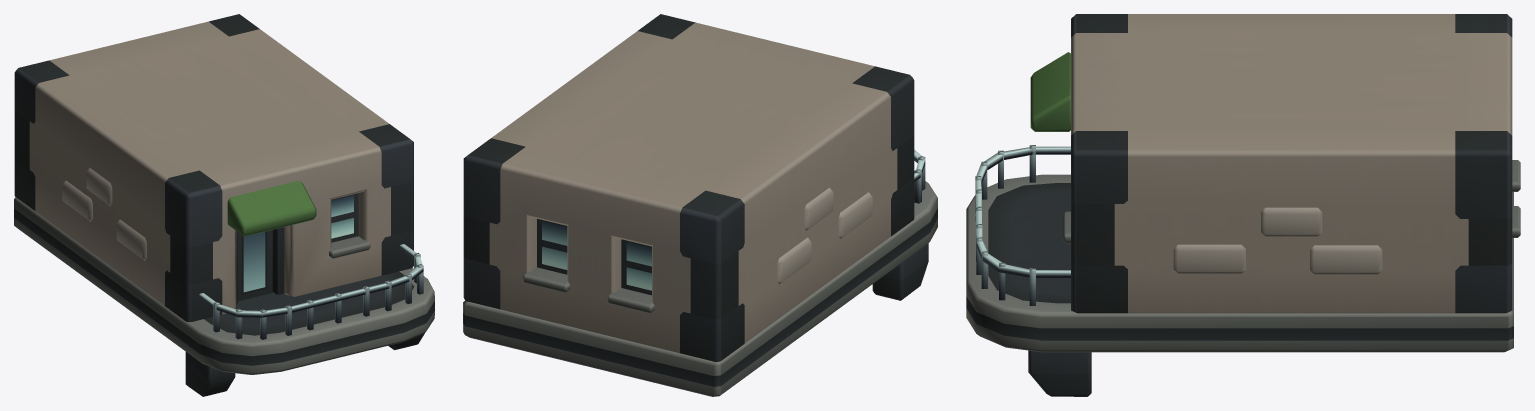
Rendered from appartment_type1_x3_balcony_cream.fbx.
The picture shows the model from 3 angles, left to right: view 1: azimuth 30°, elevation 25°; view 2: azimuth 150°, elevation 25°; view 3: azimuth 270°, elevation 25°; orthographic projection. The views are drawn at different scales.
Parts seen in each view (by area): view 1: appartment_type1_x3_balcony_cream, door_appartment_type1_x3_balcony_grey; view 2: appartment_type1_x3_balcony_cream; view 3: appartment_type1_x3_balcony_cream.
Part boxes in pixels (box(x1,y1,x2,y2)): appartment_type1_x3_balcony_cream: box(14, 14, 434, 396); door_appartment_type1_x3_balcony_grey: box(237, 230, 272, 301); appartment_type1_x3_balcony_cream: box(463, 14, 937, 396); appartment_type1_x3_balcony_cream: box(966, 14, 1520, 396).
Bounding box in the file's own units: 628 × 505 × 1017.
